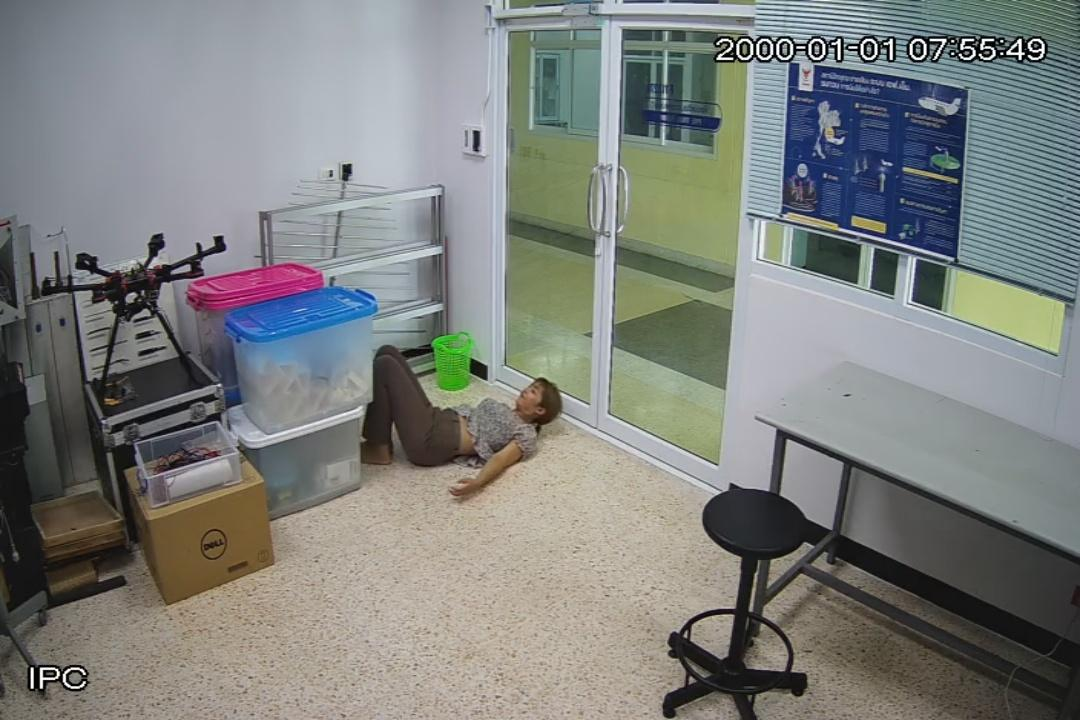fall: (358, 343, 561, 495)
